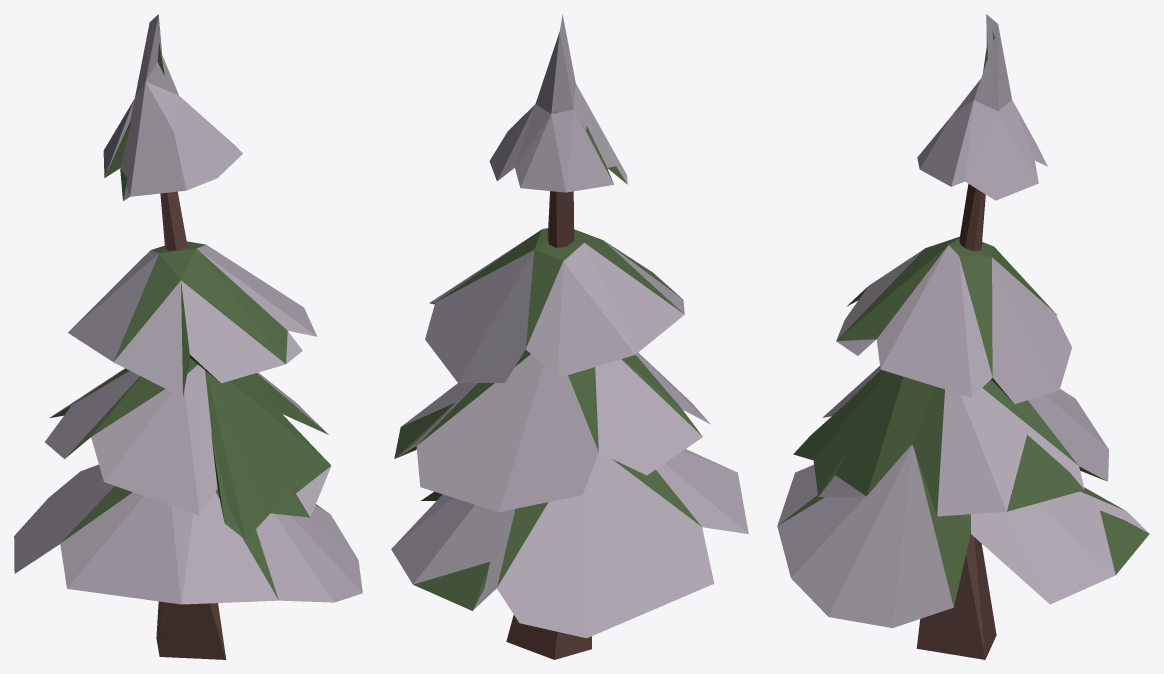
Rendered from pine-tree-show-2.gltf.
3 renders of one model, left to right at view 1: azimuth 30°, elevation 25°; view 2: azimuth 150°, elevation 25°; view 3: azimuth 270°, elevation 25°, orthographic. The views are drawn at different scales.
Parts seen in each view (by area): view 1: PineTree_Snow_2_Cylinder.079; view 2: PineTree_Snow_2_Cylinder.079; view 3: PineTree_Snow_2_Cylinder.079.
Part boxes in pixels (x1,y1,x2,y2): PineTree_Snow_2_Cylinder.079: (14, 14, 362, 659); PineTree_Snow_2_Cylinder.079: (391, 15, 748, 659); PineTree_Snow_2_Cylinder.079: (777, 14, 1149, 659).
Bounding box in the file's own units: 0.018 × 0.0357 × 0.0195.
